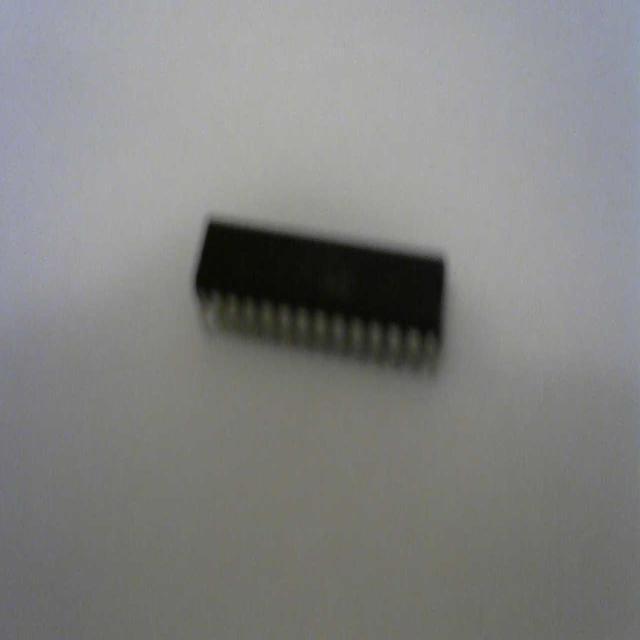atmega: (192, 210, 448, 378)
